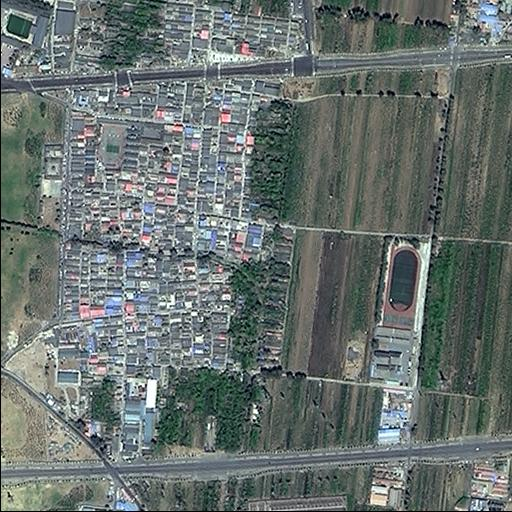school: (366, 231, 433, 387), (97, 121, 128, 190)
